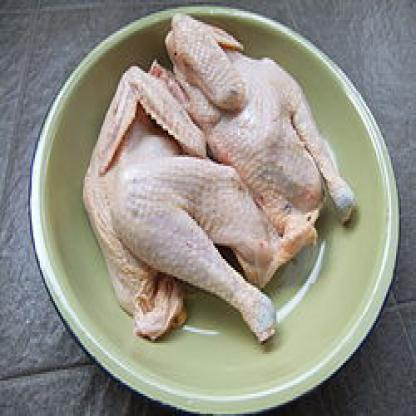chicken: (85, 15, 361, 341)
